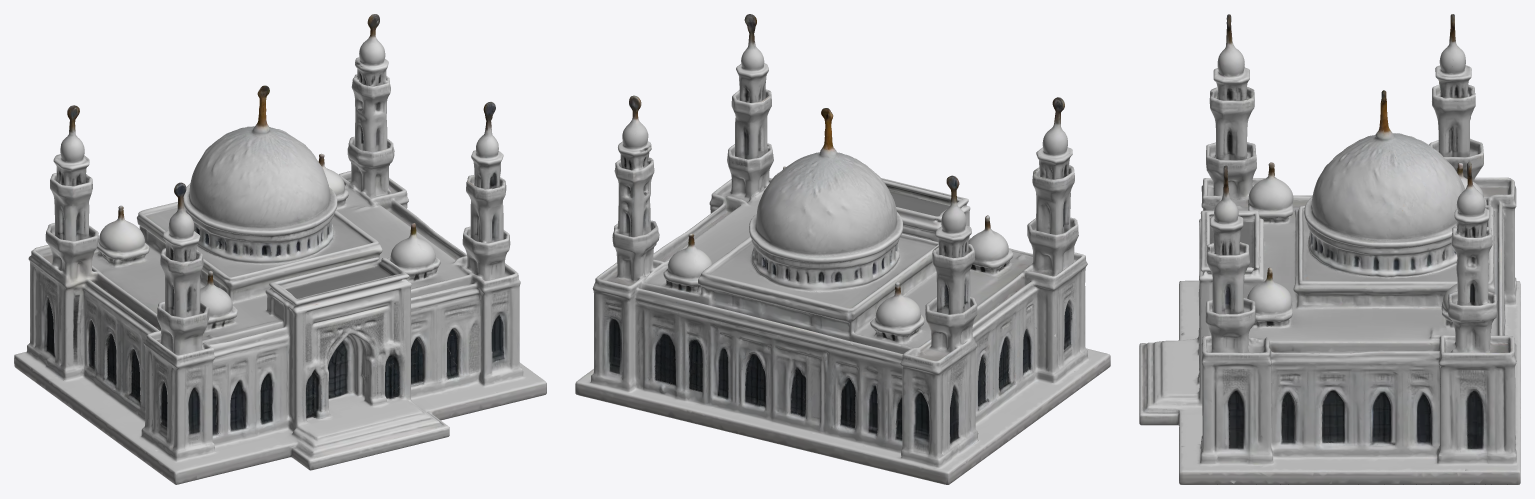
Rendered from masjid_agungg.optimized.glb.
3 views of the same model, side by side, from view 1: azimuth 30°, elevation 25°; view 2: azimuth 150°, elevation 25°; view 3: azimuth 270°, elevation 25° (orthographic). The views are drawn at different scales.
Visible parts, largest first — view 1: geometry_0; view 2: geometry_0; view 3: geometry_0.
Boxes of the visible parts, left/top/right/bottom form: geometry_0: left=14, top=14, right=546, bottom=484; geometry_0: left=575, top=14, right=1110, bottom=484; geometry_0: left=1139, top=14, right=1520, bottom=484.
Bounding box in the file's own units: 1 × 0.7416 × 0.8417.
Materials: 1 (1 with a texture image).
